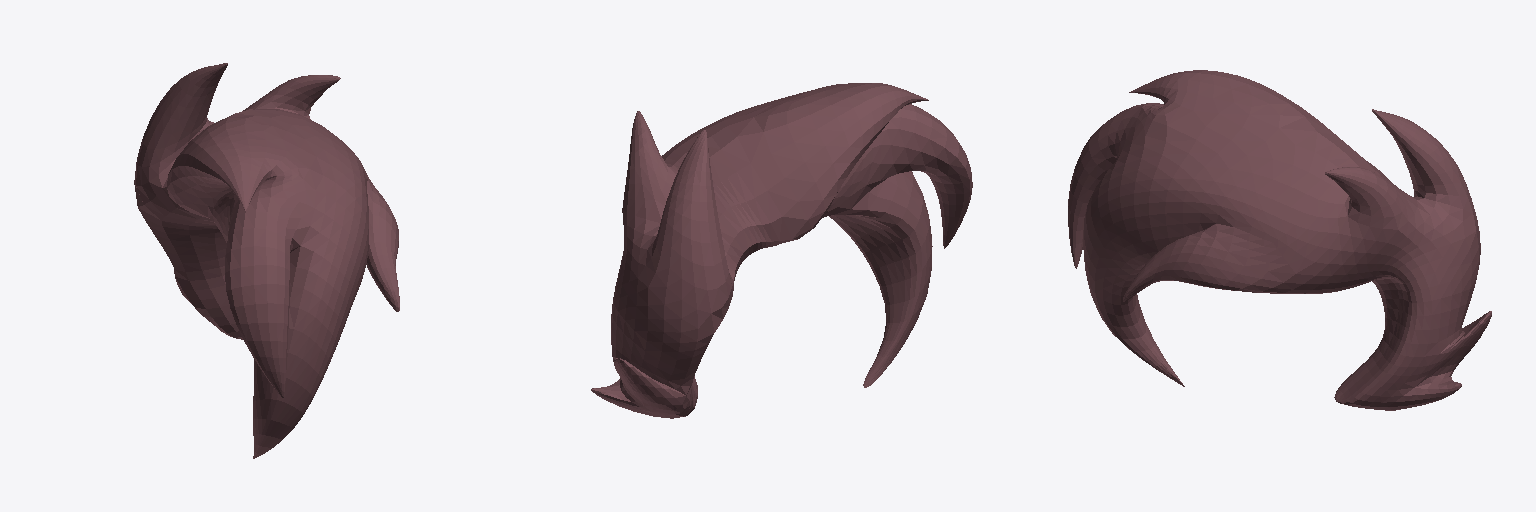
The model's file is alt_mane.obj.
The picture shows the model from 3 angles: view 1: azimuth 30°, elevation 25°; view 2: azimuth 150°, elevation 25°; view 3: azimuth 270°, elevation 25°; orthographic projection.
Parts seen in each view (by area): view 1: vn_alternatedash_mane_altrd; view 2: vn_alternatedash_mane_altrd; view 3: vn_alternatedash_mane_altrd.
Boxes of the visible parts, x1,y1,x2,y2 form: vn_alternatedash_mane_altrd: [134, 63, 399, 458]; vn_alternatedash_mane_altrd: [591, 83, 972, 418]; vn_alternatedash_mane_altrd: [1068, 70, 1491, 410].
Bounding box in the file's own units: 19.47 × 25.48 × 31.49.